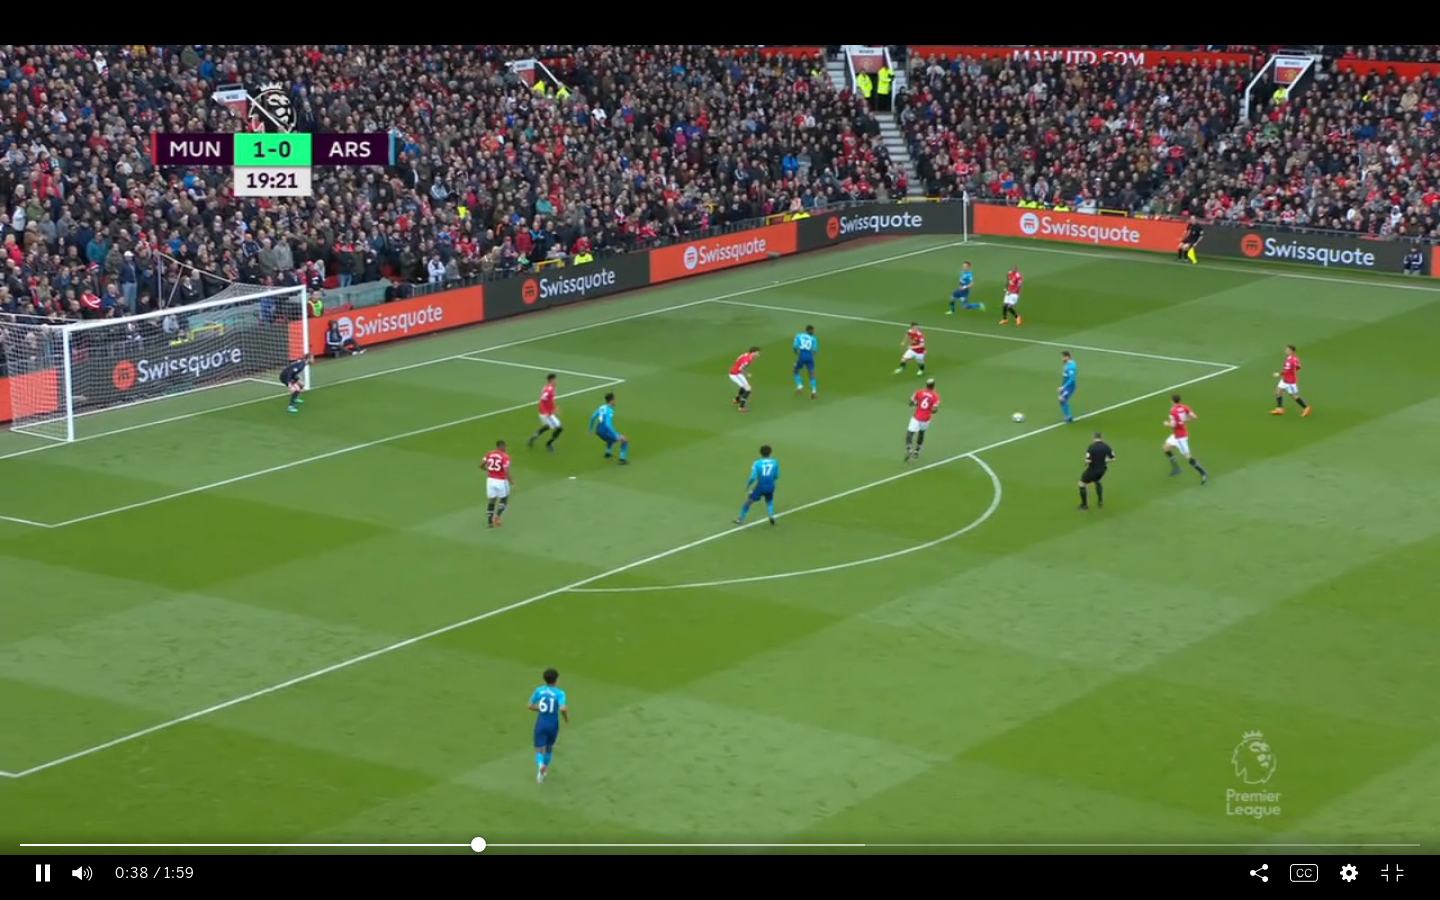referee: (1070, 426, 1119, 519)
soccer player: (516, 665, 578, 791), (1161, 391, 1208, 491), (584, 389, 635, 472), (733, 445, 782, 531), (478, 440, 516, 534), (902, 377, 944, 460), (1270, 342, 1310, 426), (788, 323, 825, 408), (530, 369, 562, 459), (273, 354, 318, 414), (945, 260, 985, 322), (1055, 345, 1084, 429), (727, 343, 762, 412), (899, 320, 933, 386), (995, 263, 1030, 325)
soccerball: (1005, 408, 1025, 426)
